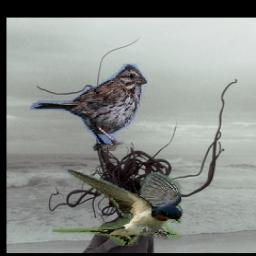Sparrow: (30, 63, 147, 152)
Swallow: (53, 167, 182, 246)
